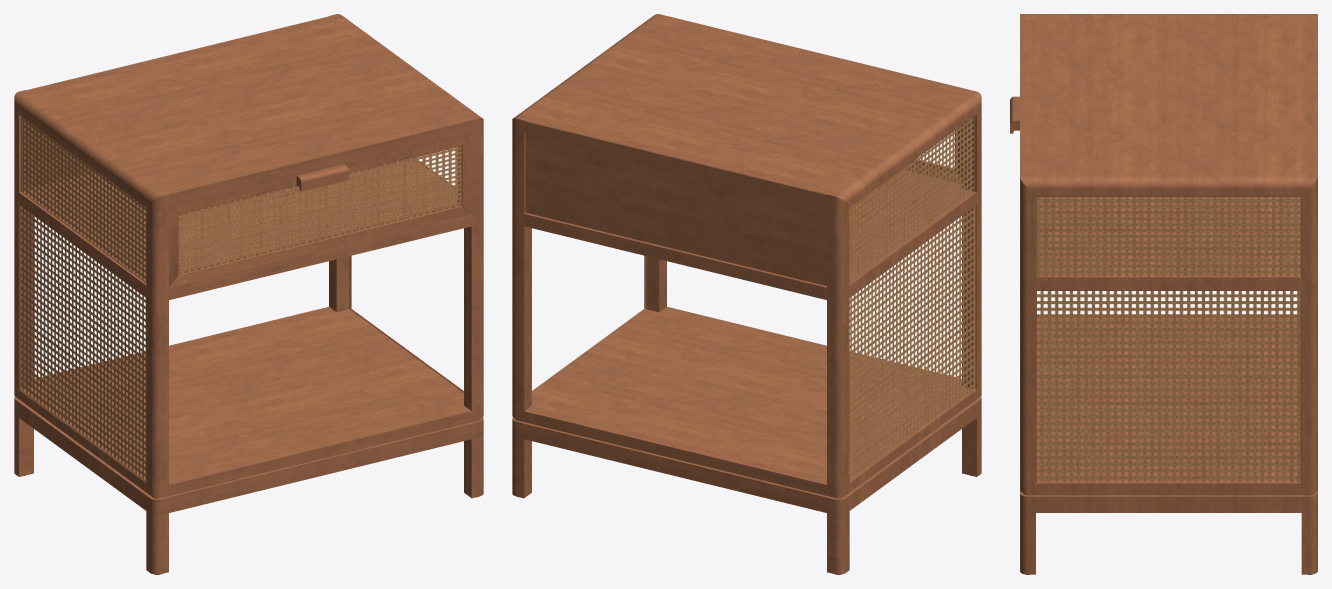
File: cane_side_table.gltf
3 renders of one model, left to right at view 1: azimuth 30°, elevation 25°; view 2: azimuth 150°, elevation 25°; view 3: azimuth 270°, elevation 25°, orthographic. The views are drawn at different scales.
Visible parts, largest first — view 1: Mesh (×2); view 2: Mesh (×2); view 3: Mesh (×2).
Part boxes in pixels (x1,y1,x2,y2): Mesh (×2): (14,14,483,574); Mesh (×2): (512,14,981,574); Mesh (×2): (1010,14,1317,574).
Bounding box in the file's own units: 0.56 × 0.6111 × 0.4303.
Materials: 2 (2 with a texture image).
